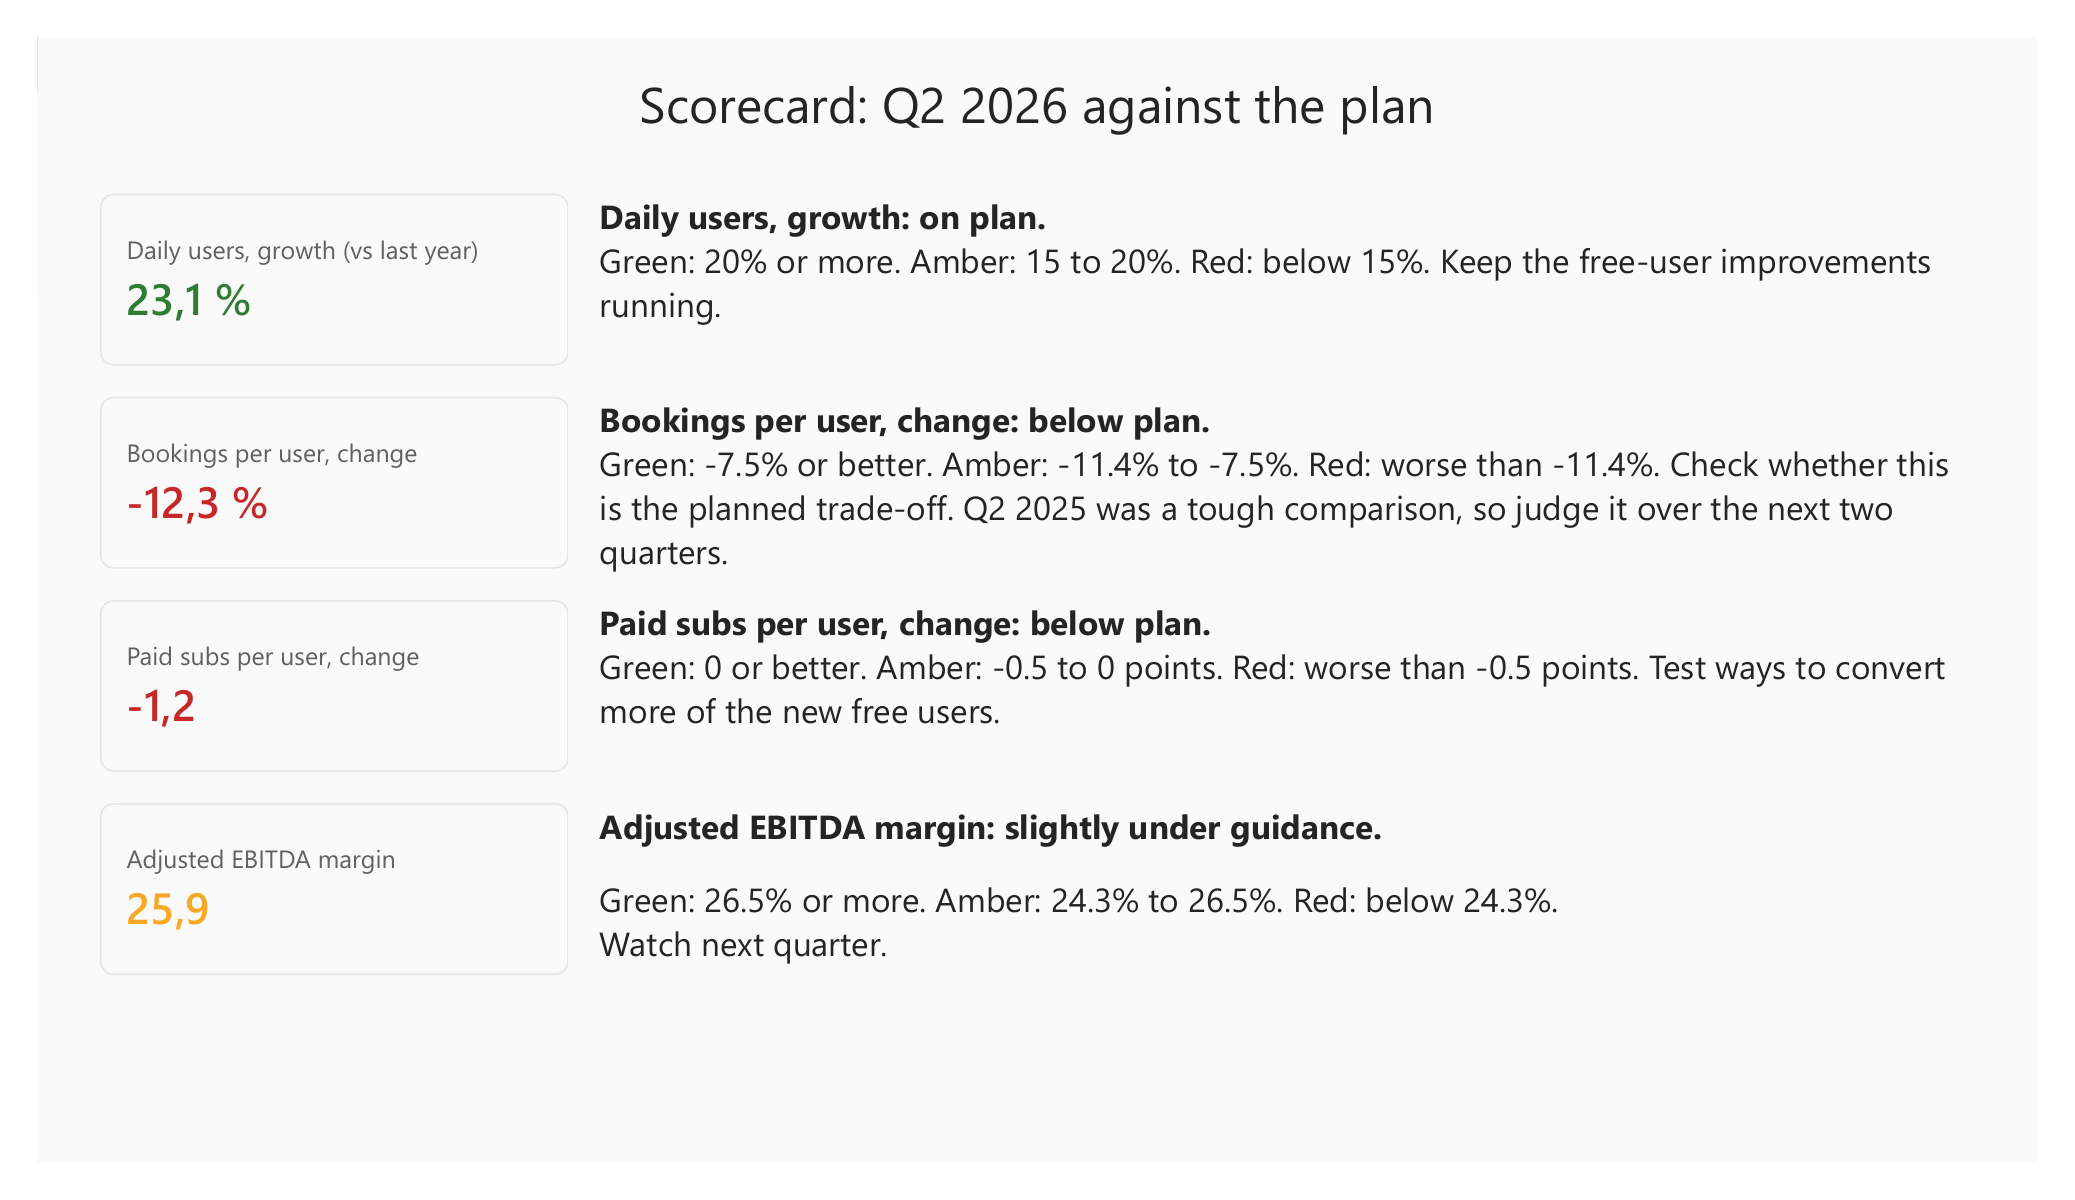

This screenshot's page, from the dashboard's own definition file:
{"tool":"powerbi","page":{"name":"Scorecards","canvas":[1280,720],"ordinal":3},"visuals":[{"type":"cardVisual","fields":{"Data":["duolingo_quarterly_kpis.DAU YoY %"]},"box":[40,100,300,110],"z":0},{"type":"cardVisual","fields":{"Data":["duolingo_quarterly_kpis.Paid Subs per DAU YoY pts"]},"box":[40,360,300,110],"z":1000},{"type":"cardVisual","fields":{"Data":["duolingo_quarterly_kpis.Adj EBITDA Margin pts"]},"box":[40,490,300,110],"z":2000},{"type":"cardVisual","fields":{"Data":["duolingo_quarterly_kpis.Bookings per DAU YoY %"]},"box":[40,230,300,110],"z":3000},{"type":"textbox","box":[40,20,1200,50],"z":4000},{"type":"textbox","box":[360,100,880,110],"z":5000},{"type":"textbox","box":[360,230,880,120],"z":6000},{"type":"textbox","box":[360,360,880,110],"z":7000},{"type":"textbox","box":[360,490,670,110],"z":8000}]}

Visuals, with their boxes on the page's 1280x720 design canvas (x1, y1, x2, y2). These are canvas units, not pixel positions in the 2075x1200 screenshot, which may show the page scaled, cropped or inside an application window:
cardVisual - duolingo_quarterly_kpis.DAU YoY %: 40/100/340/210
cardVisual - duolingo_quarterly_kpis.Paid Subs per DAU YoY pts: 40/360/340/470
cardVisual - duolingo_quarterly_kpis.Adj EBITDA Margin pts: 40/490/340/600
cardVisual - duolingo_quarterly_kpis.Bookings per DAU YoY %: 40/230/340/340
textbox: 40/20/1240/70
textbox: 360/100/1240/210
textbox: 360/230/1240/350
textbox: 360/360/1240/470
textbox: 360/490/1030/600
